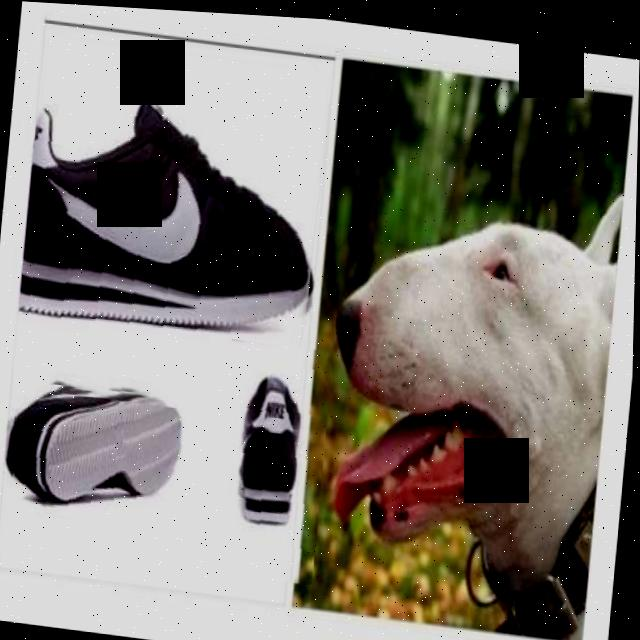shoe: (13, 54, 333, 415), (5, 387, 223, 561), (213, 334, 335, 585)
